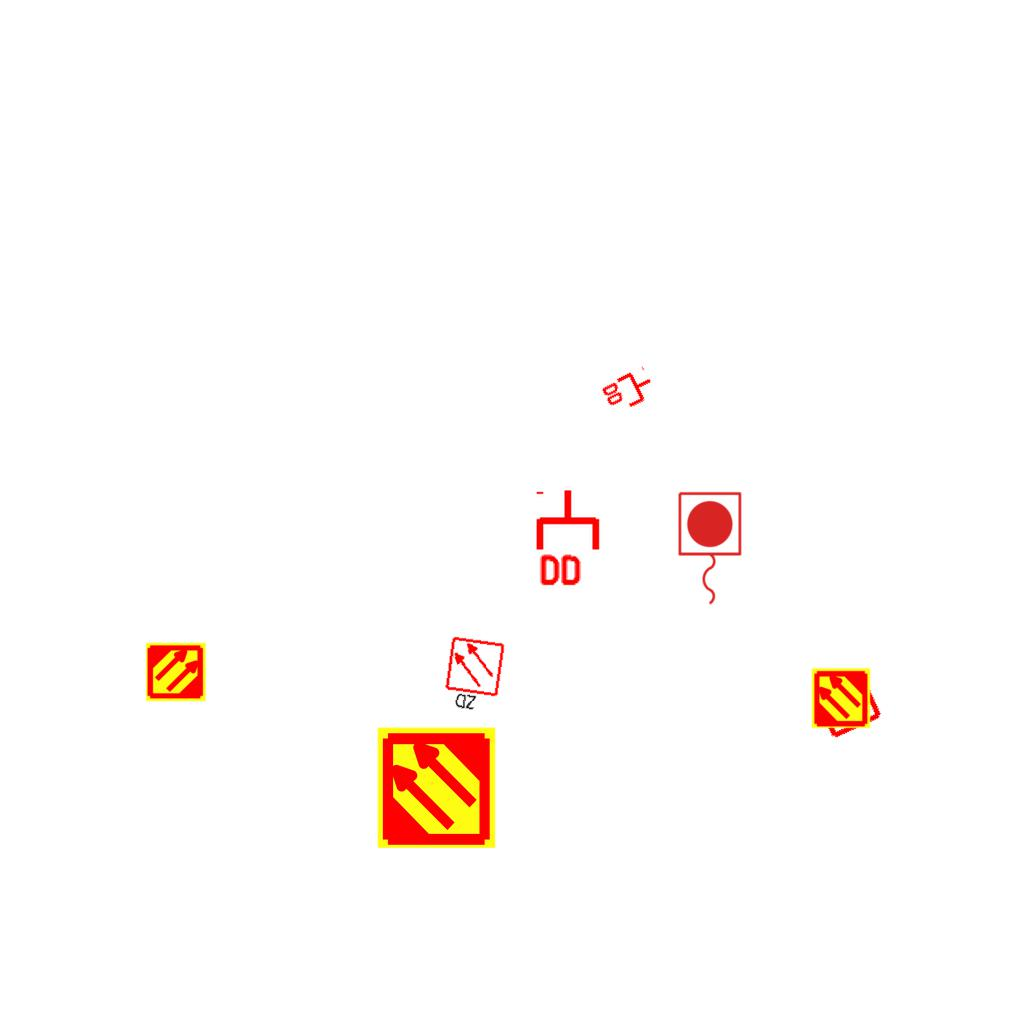ASR_Ansaugrauchmelder: (374, 725, 499, 850), (145, 641, 207, 703), (810, 667, 872, 729)
Datenanschluss_zweifach: (535, 487, 604, 590), (598, 365, 660, 418)
NAM-Nichtautomatischer_Melder: (810, 667, 884, 741)
ZD_Melder_in_Zwischendecke_mit_Revisionsoeffnung_mind_40_x_40_cm: (441, 635, 508, 717)
Zugtaster: (673, 488, 745, 610)
